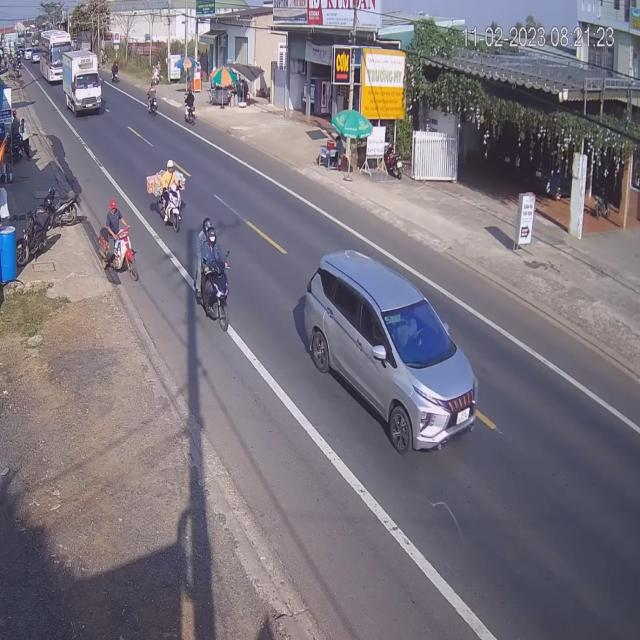bus: (40, 28, 71, 88)
car: (303, 249, 480, 460)
motorbike: (195, 216, 231, 326), (98, 200, 134, 280), (151, 159, 186, 231), (318, 137, 336, 169), (145, 77, 158, 113), (184, 90, 197, 126)
truck: (64, 52, 101, 119)
